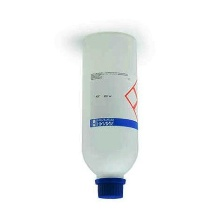cleaning_solution: (78, 28, 140, 202)
